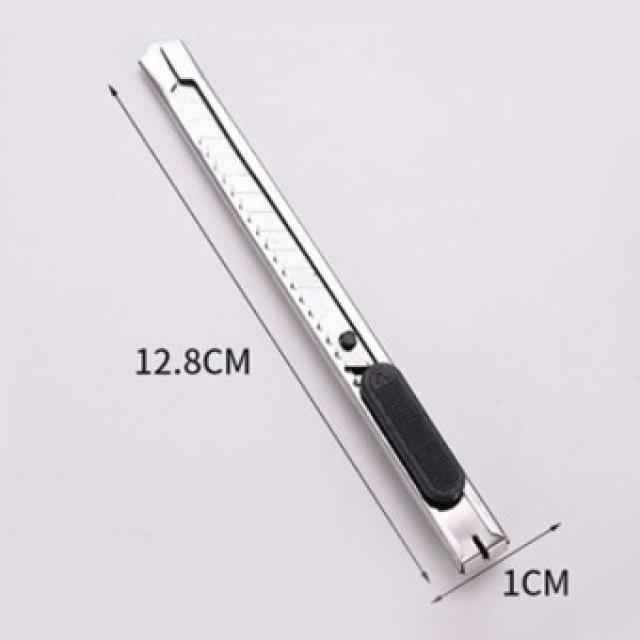cutter: (129, 15, 512, 584)
